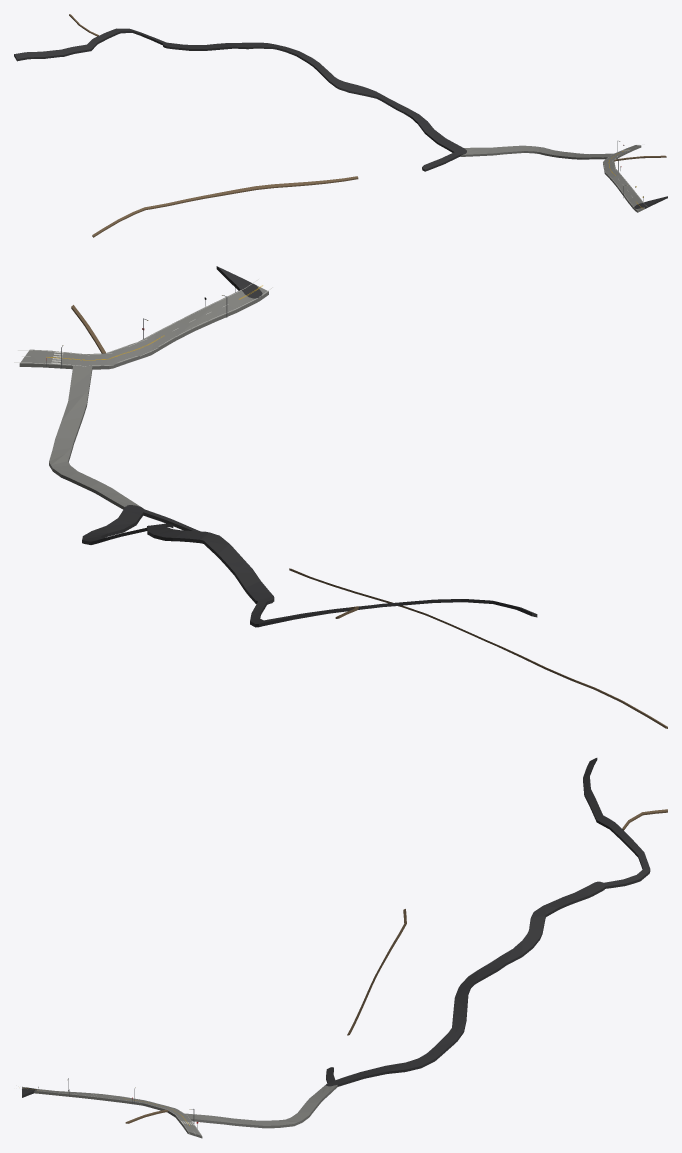
3 views of the same model, one above another, from view 1: azimuth 30°, elevation 25°; view 2: azimuth 150°, elevation 25°; view 3: azimuth 270°, elevation 25° (orthographic). The views are drawn at different scales.
Size of the model in its own units: 297 by 76.77 by 295.
